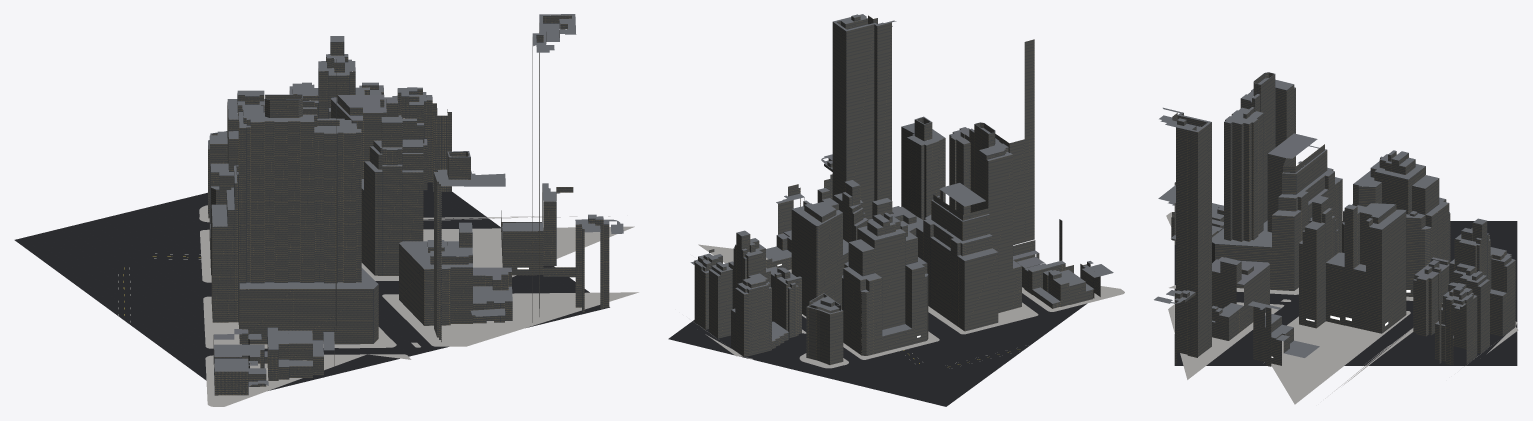
3 views of the same model, side by side, from view 1: azimuth 30°, elevation 25°; view 2: azimuth 150°, elevation 25°; view 3: azimuth 270°, elevation 25° (orthographic). The views are drawn at different scales.
Visible parts, largest first — view 1: t4_1, detail; view 2: t4_1, detail; view 3: t4_1, detail.
Boxes of the visible parts, left/top/right/bottom form: t4_1: left=14, top=14, right=623, bottom=395; detail: left=118, top=171, right=638, bottom=406; t4_1: left=668, top=14, right=1113, bottom=406; detail: left=692, top=244, right=1124, bottom=368; t4_1: left=1154, top=72, right=1517, bottom=366; detail: left=1166, top=212, right=1518, bottom=404.
Bounding box in the file's own units: 337 × 199 × 266.
Materials: 5 (2 with a texture image).
